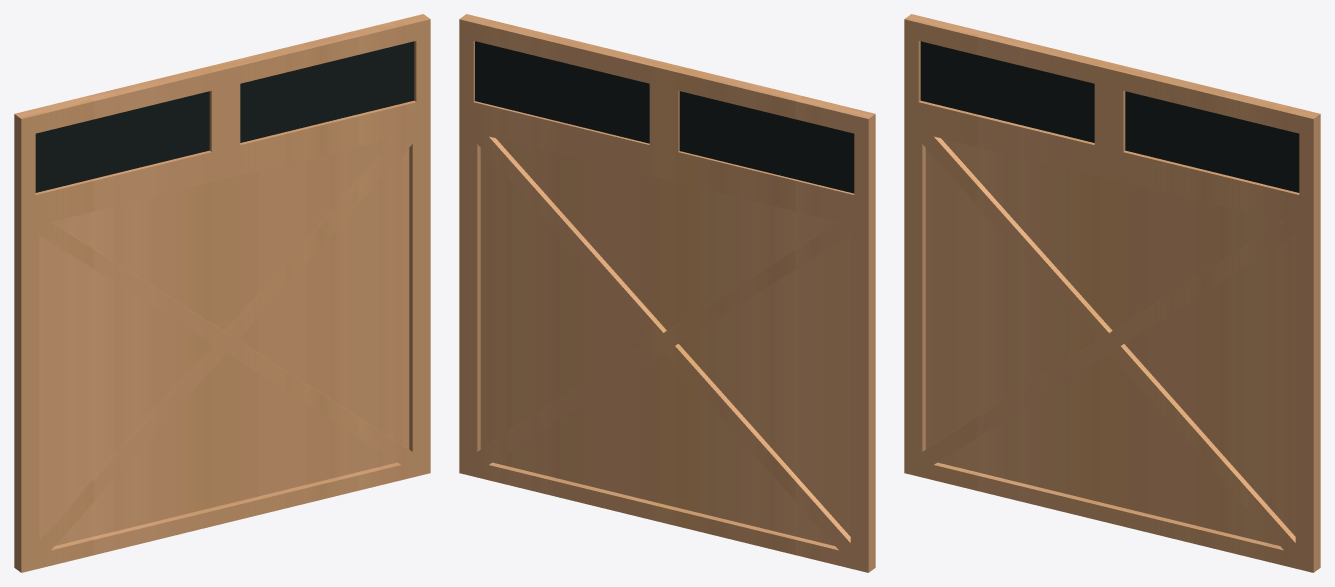
File: garageDoor2.obj
3 views of the same model, side by side, from view 1: azimuth 30°, elevation 25°; view 2: azimuth 150°, elevation 25°; view 3: azimuth 330°, elevation 25° (orthographic).
Parts seen in each view (by area): view 1: PolyMesh_1, sweethome3d_window_pane; view 2: PolyMesh_1, sweethome3d_window_pane; view 3: PolyMesh_1, sweethome3d_window_pane.
Part boxes in pixels (x1,y1,x2,y2): PolyMesh_1: (14,14,430,572); sweethome3d_window_pane: (35,41,414,192); PolyMesh_1: (459,14,875,572); sweethome3d_window_pane: (475,41,854,193); PolyMesh_1: (904,14,1320,572); sweethome3d_window_pane: (920,41,1299,192).
Bounding box in the file's own units: 6.84 × 7.24 × 0.208.
2 materials, 1 textured.
